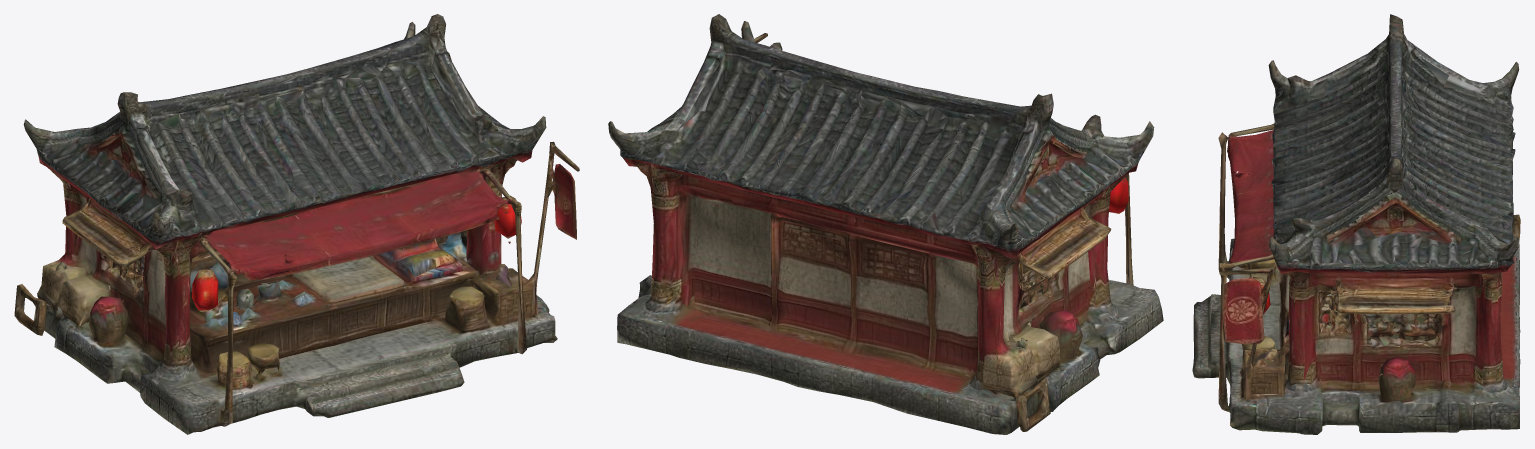
Rendered from loja.glb.
3 views of the same model, side by side, from view 1: azimuth 30°, elevation 25°; view 2: azimuth 150°, elevation 25°; view 3: azimuth 270°, elevation 25° (orthographic). The views are drawn at different scales.
Visible parts, largest first — view 1: loja; view 2: loja; view 3: loja.
Part boxes in pixels (x1,y1,x2,y2): loja: (14, 14, 579, 434); loja: (608, 14, 1163, 434); loja: (1192, 14, 1520, 434).
Bounding box in the file's own units: 7.06 × 4.5 × 5.19.
1 material, 1 textured.
